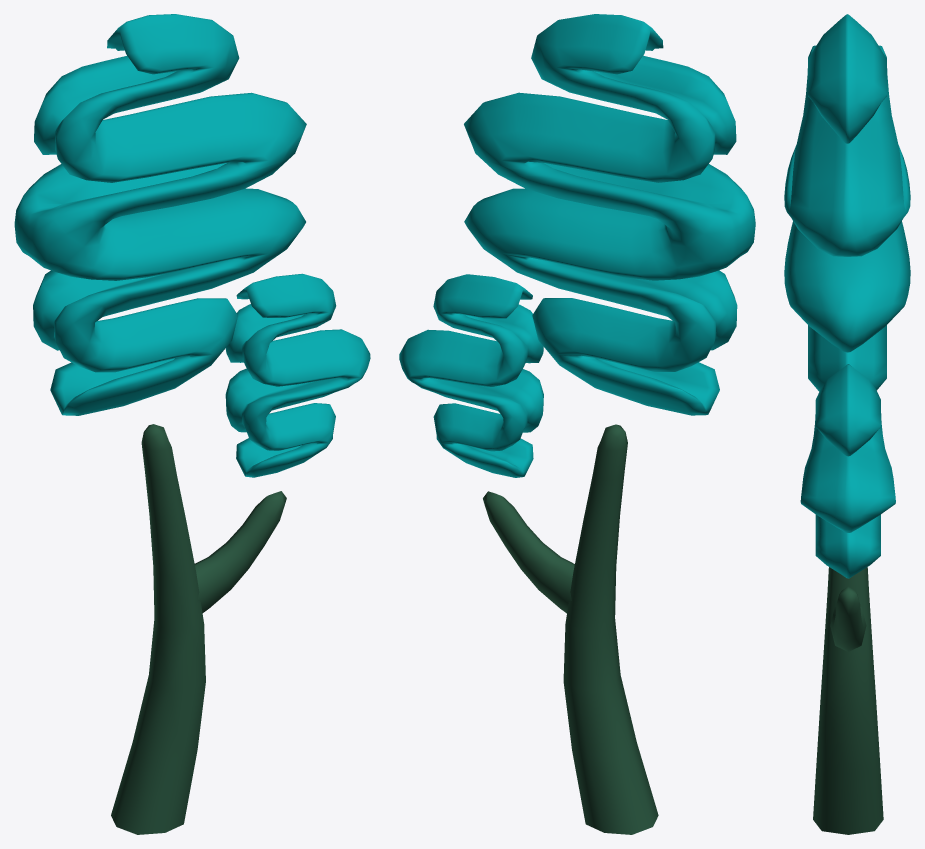
The model's file is Tree_Floating_2.glb.
3 renders of one model, left to right at view 1: azimuth 30°, elevation 25°; view 2: azimuth 150°, elevation 25°; view 3: azimuth 270°, elevation 25°, orthographic.
Visible parts, largest first — view 1: Tree_Floating_2; view 2: Tree_Floating_2; view 3: Tree_Floating_2.
Boxes of the visible parts, x1,y1,x2,y2 form: Tree_Floating_2: (14,14,370,834); Tree_Floating_2: (399,14,755,834); Tree_Floating_2: (784,14,910,834).
Bounding box in the file's own units: 2.63 × 5.87 × 0.8429.
1 material, 1 textured.
